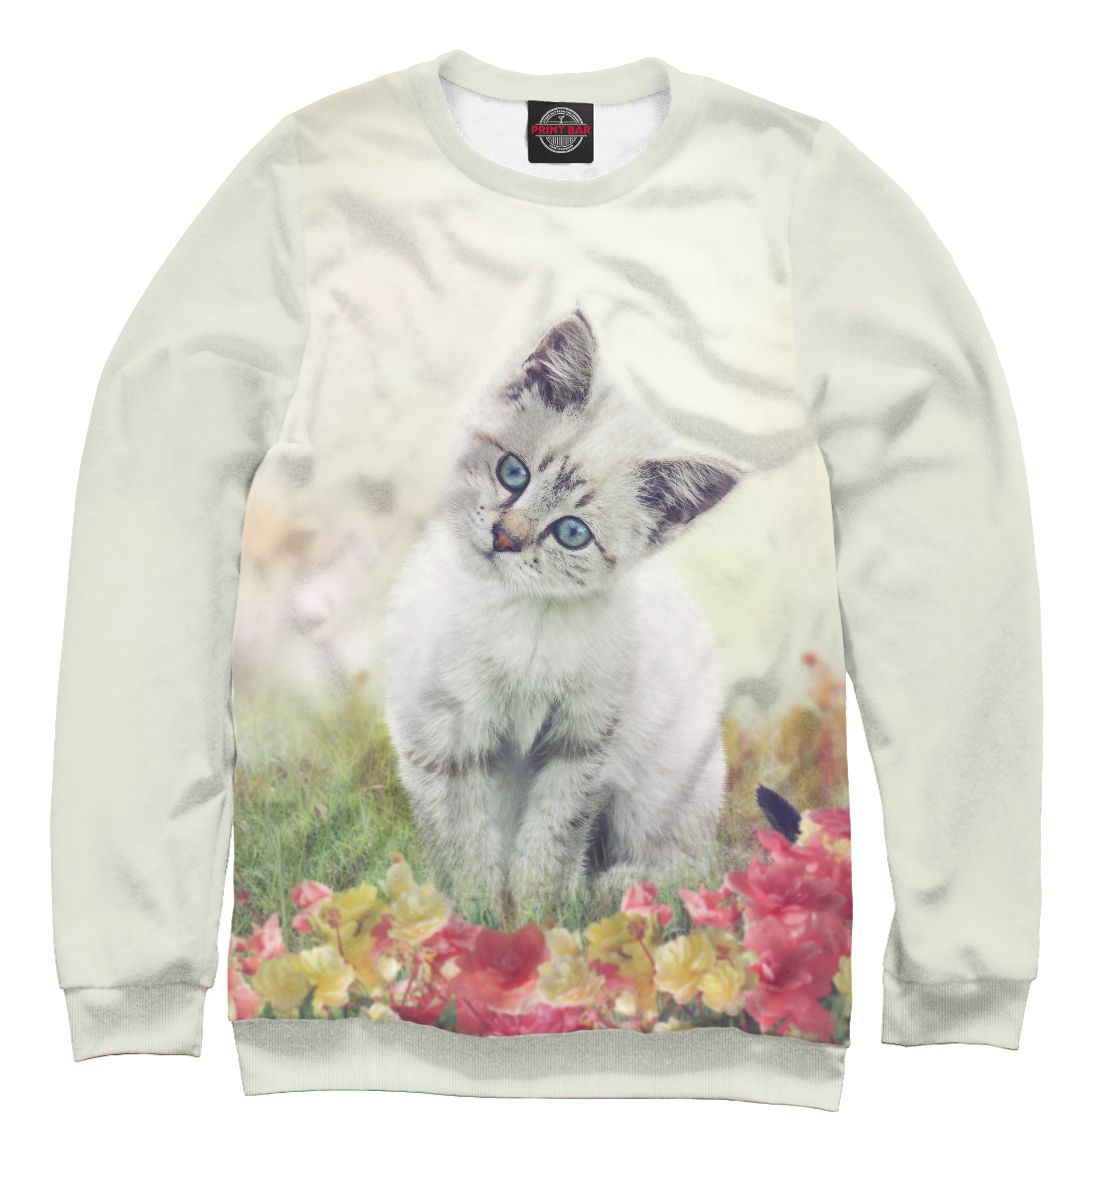cat: (436, 301, 769, 606)
